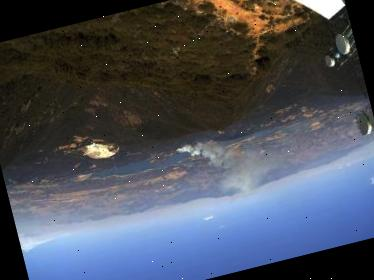smoke: (171, 119, 287, 212)
